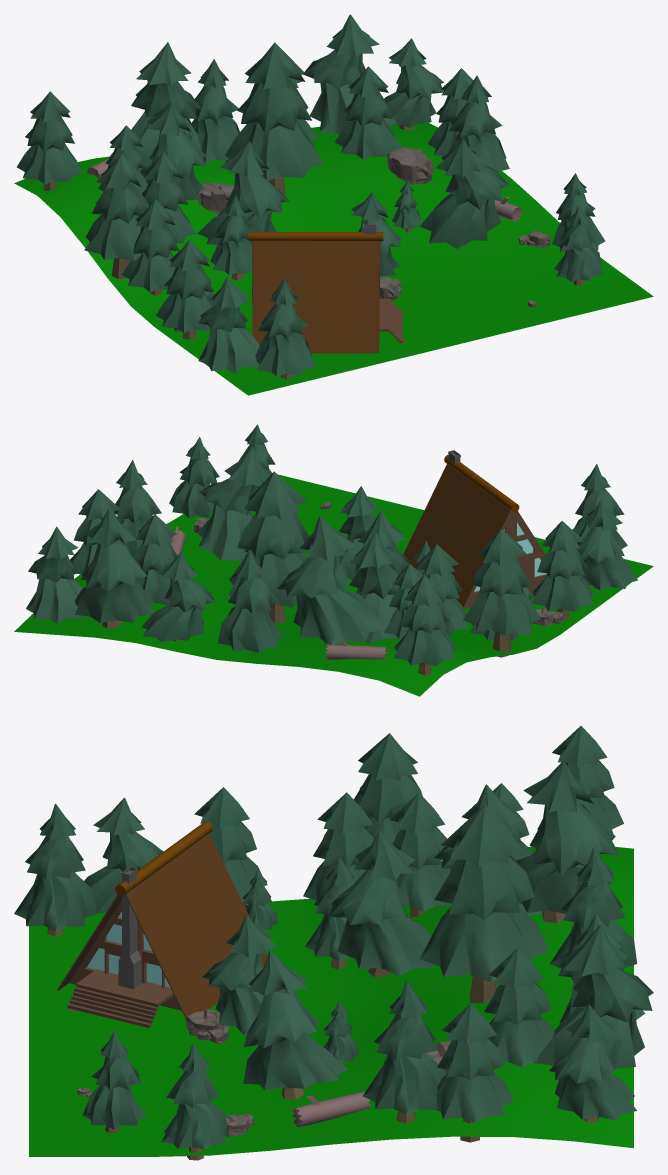
3 views of the same model, one above another, from view 1: azimuth 30°, elevation 25°; view 2: azimuth 150°, elevation 25°; view 3: azimuth 270°, elevation 25° (orthographic). The views are drawn at different scales.
Visible parts, largest first — view 1: Ground, Cabin1, Tree1, Tree6, Tree18, Tree21, Tree9, Tree12, Tree27, Tree7, Tree14, Tree17 (+16 smaller); view 2: Ground, Cabin1, Tree9, Tree1, Tree21, Tree18, Tree6, Tree20, Tree12, Tree26, Tree15, Tree11 (+13 smaller); view 3: Ground, Cabin1, Tree1, Tree17, Tree9, Tree6, Tree21, Tree8, Tree10, Tree14, Tree11, Tree7 (+18 smaller).
Boxes of the visible parts, box(x1,y1,x2,y2) form: Ground: box(14, 122, 653, 395); Cabin1: box(248, 224, 405, 353); Tree1: box(225, 42, 324, 196); Tree6: box(419, 139, 508, 248); Tree18: box(84, 153, 149, 278); Tree21: box(303, 14, 396, 134); Tree9: box(108, 42, 200, 169); Tree12: box(17, 91, 83, 191); Tree27: box(198, 276, 259, 373); Tree7: box(335, 66, 401, 159); Tree14: box(255, 278, 315, 378); Tree17: box(197, 141, 289, 244); Ground: box(14, 474, 653, 696); Cabin1: box(403, 450, 547, 608); Tree9: box(277, 516, 385, 645); Tree1: box(228, 471, 309, 623); Tree21: box(75, 509, 154, 628); Tree18: box(463, 528, 540, 652); Tree6: box(197, 446, 268, 561); Tree20: box(218, 549, 282, 652); Tree12: box(393, 575, 455, 675); Tree26: box(531, 521, 593, 620); Tree15: box(141, 551, 215, 641); Tree11: box(26, 526, 82, 623); Ground: box(29, 847, 633, 1156); Cabin1: box(56, 821, 267, 1027); Tree1: box(420, 804, 548, 1003); Tree17: box(329, 830, 433, 977); Tree9: box(516, 760, 618, 923); Tree6: box(243, 950, 348, 1099); Tree21: box(533, 924, 653, 1073); Tree8: box(363, 980, 446, 1123); Tree10: box(434, 1003, 513, 1142); Tree14: box(14, 803, 97, 935); Tree11: box(549, 1004, 637, 1122); Tree7: box(484, 948, 554, 1066).
Bounding box in the file's own units: 10.85 × 4.32 × 10.64.
